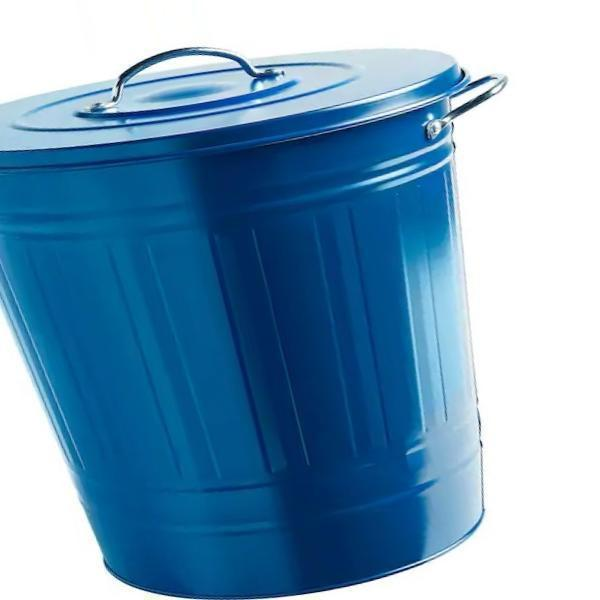Bote de Basura: (0, 25, 497, 599)
